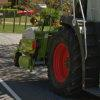Tractor: (23, 17, 100, 98)
